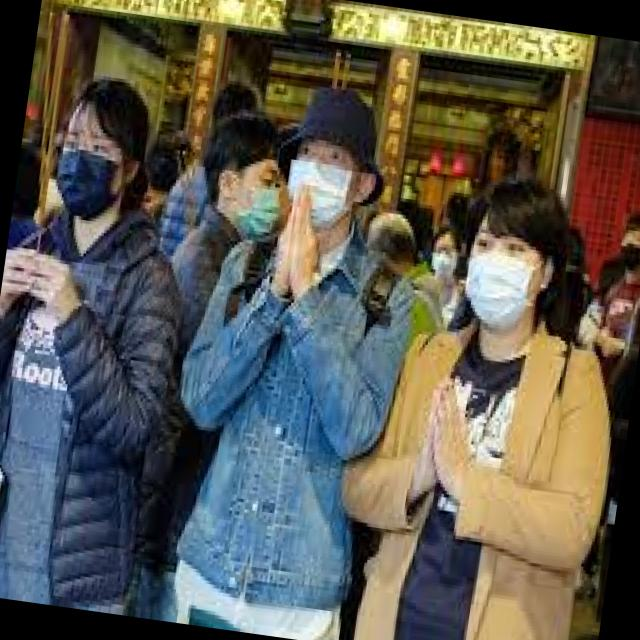Jacket: (188, 207, 398, 640), (0, 180, 211, 591), (372, 296, 611, 640)
